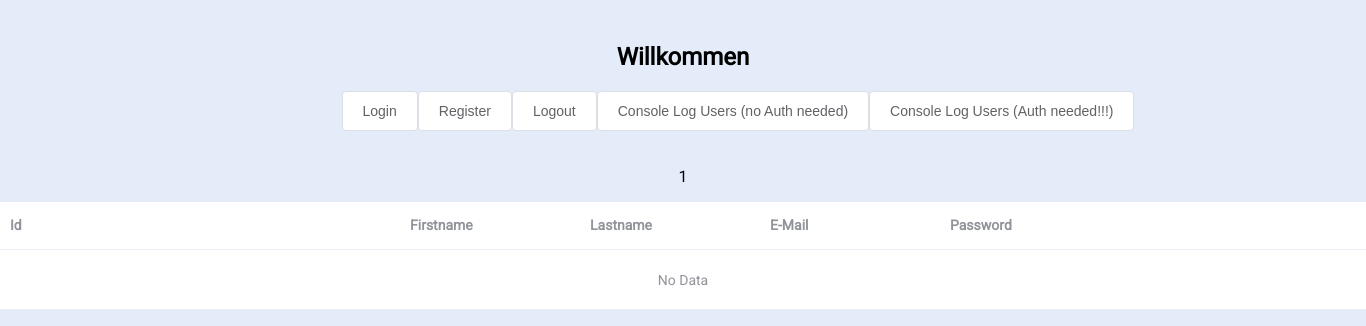
Scenario: Home Comp Tests › simple dynamic rendering
This screenshot has width=1366, height=326.
Expected: the element showing "No Data" is shown, [658, 272, 708, 288]
Expected: the text "1" is shown, [678, 167, 688, 186]
Click the button with class "button-no-auth" at coordinates (733, 111), box [597, 91, 869, 131]
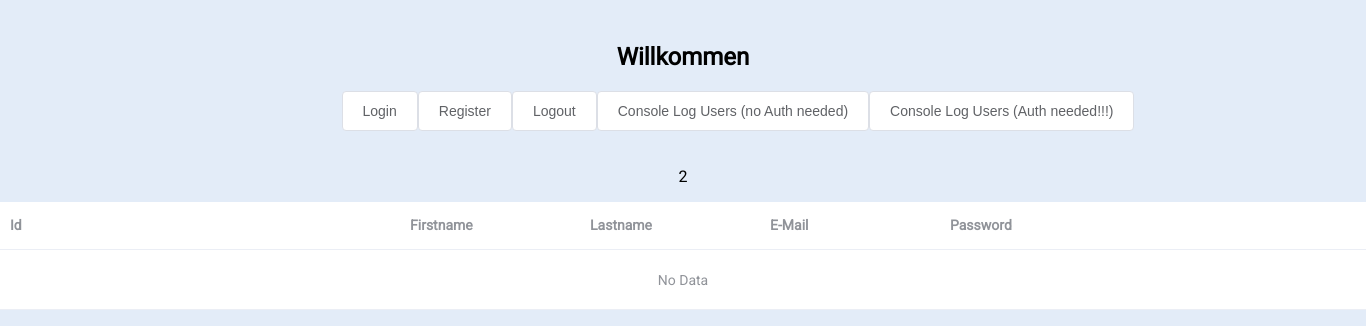
Result: the text "2" is shown at [678, 167, 688, 186]
Click the button with class "button-no-auth" at coordinates (733, 111), box [597, 91, 869, 131]
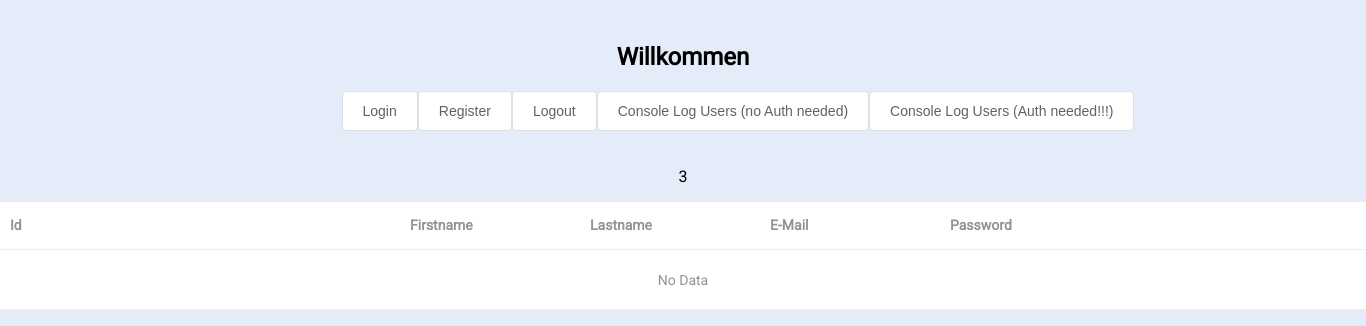
Result: the text "3" is shown at [678, 167, 688, 186]
Click the button with class "button-no-auth" at coordinates (733, 111), box [597, 91, 869, 131]
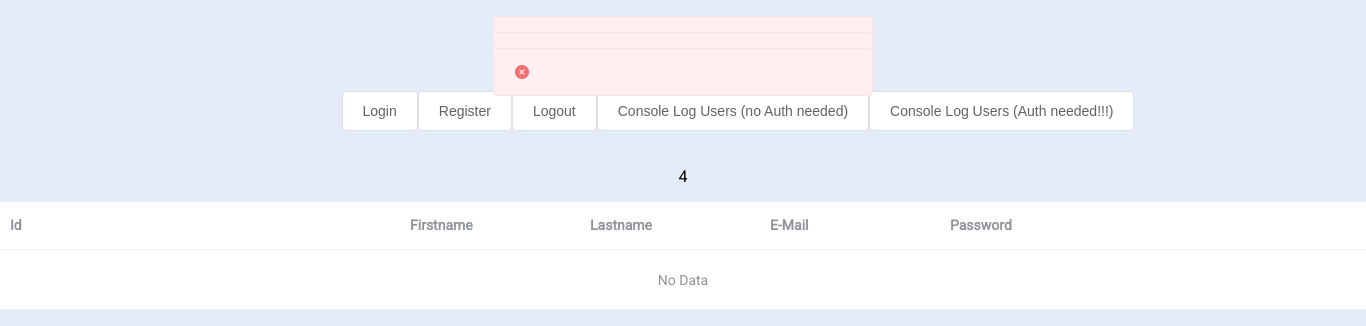
Result: the text "4" is shown at [678, 167, 688, 186]
